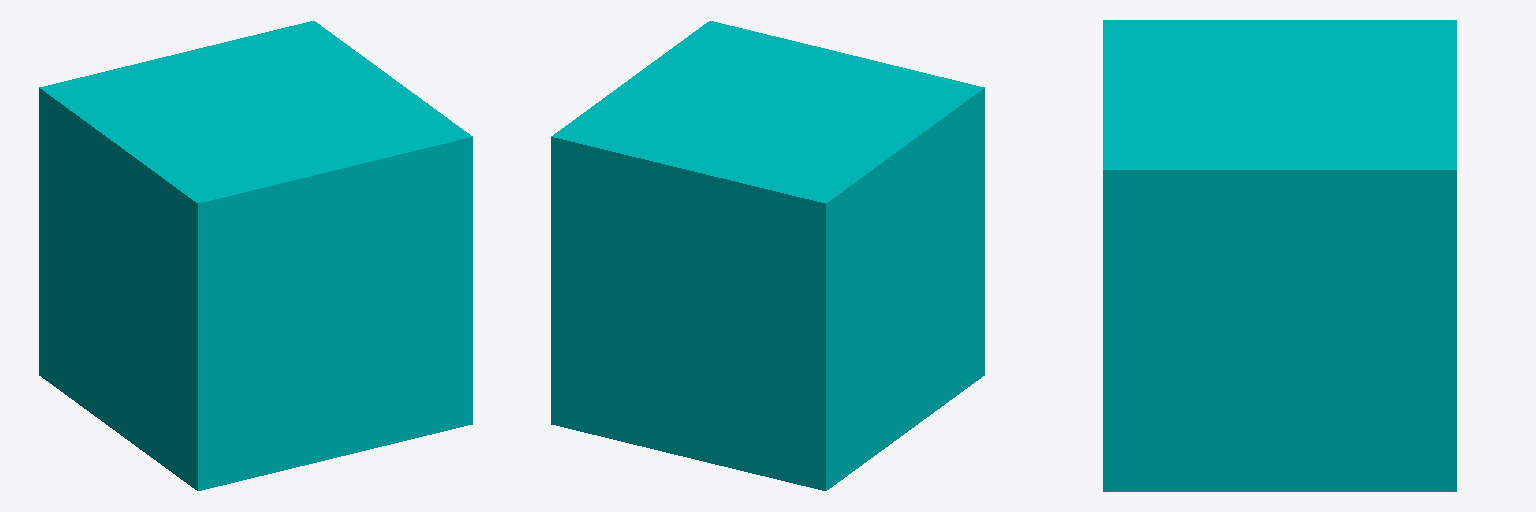
The robot description file, URDF, robot "Brick":
<?xml version="1.0"?>
<robot name="Brick">

  <link name="brick">
  <visual>
    <geometry>
      <box size="1. 1. 1."/>
    </geometry>
    <origin xyz="0 0 0"/>
    <material name="green">
      <color rgba="0 0.8 .8 .75"/>
    </material>
  </visual>
  <inertial>
    <mass value="1."/>
    <inertia ixx="1." ixy="0." ixz="0." iyy="1." iyz="0." izz="1."/>
  </inertial>
  </link>
  
  <link name="contact1">
  <visual>
    <geometry>
      <sphere radius=".05"/>
    </geometry>
    <origin xyz="0. 0. 0."/>
    <material name="green">
      <color rgba="0 0.1 .2 1."/>
    </material>
  </visual>
  <inertial>
    <mass value="1e-12"/>
    <inertia ixx="1e-12" ixy="0." ixz="0." iyy="1e-12" iyz="0." izz="1e-12"/>
  </inertial>
  </link>
  <joint name="contact1_to_brick" type="fixed">
    <!-- <origin xyz=".5 .5 -.5"/> -->
    <origin xyz="0. 0. -.5"/>
    <parent link="brick"/>
    <child link="contact1"/>
  </joint>
  
  <!-- <link name="contact2">
  <visual>
    <geometry>
      <sphere radius=".05"/>
    </geometry>
    <origin xyz="0. 0. 0."/>
    <material name="green">
      <color rgba="0 0.1 .2 1."/>
    </material>
  </visual>
  <inertial>
    <mass value="1e-12"/>
    <inertia ixx="1e-12" ixy="0." ixz="0." iyy="1e-12" iyz="0." izz="1e-12"/>
  </inertial>
  </link>
  <joint name="contact2_to_brick" type="fixed">
    <origin xyz=".5 -.5 -.5"/>
    <parent link="brick"/>
    <child link="contact2"/>
  </joint>
  
  <link name="contact3">
  <visual>
    <geometry>
      <sphere radius=".05"/>
    </geometry>
    <origin xyz="0. 0. 0."/>
    <material name="green">
      <color rgba="0 0.1 .2 1."/>
    </material>
  </visual>
  <inertial>
    <mass value="1e-12"/>
    <inertia ixx="1e-12" ixy="0." ixz="0." iyy="1e-12" iyz="0." izz="1e-12"/>
  </inertial>
  </link>
  <joint name="contact3_to_brick" type="fixed">
    <origin xyz="-.5 -.5 -.5"/>
    <parent link="brick"/>
    <child link="contact3"/>
  </joint>
  
  <link name="contact4">
  <visual>
    <geometry>
      <sphere radius=".05"/>
    </geometry>
    <origin xyz="0. 0. 0."/>
    <material name="green">
      <color rgba="0 0.1 .2 1."/>
    </material>
  </visual>
  <inertial>
    <mass value="1e-12"/>
    <inertia ixx="1e-12" ixy="0." ixz="0." iyy="1e-12" iyz="0." izz="1e-12"/>
  </inertial>
  </link>
  <joint name="contact4_to_brick" type="fixed">
    <origin xyz="-.5 .5 -.5"/>
    <parent link="brick"/>
    <child link="contact4"/>
  </joint> -->

</robot>

--- Render facts (derived) ---
The picture shows the robot from 3 angles, left to right: view 1: azimuth 30°, elevation 25°; view 2: azimuth 150°, elevation 25°; view 3: azimuth 270°, elevation 25°; orthographic projection.
Robot: Brick — 2 links, 1 joints (1 fixed); root link brick; default pose: all joints at 0.
Visible links, largest first — view 1: brick; view 2: brick; view 3: brick.
Link boxes in pixels (x1=…): brick: x1=39, y1=21, x2=472, y2=490; brick: x1=551, y1=21, x2=984, y2=490; brick: x1=1103, y1=20, x2=1456, y2=491.
Bounding box of the posed robot: 1 × 1 × 1.05 m (x, y, z).
Geometry: primitives only (box / cylinder / sphere), no mesh files.